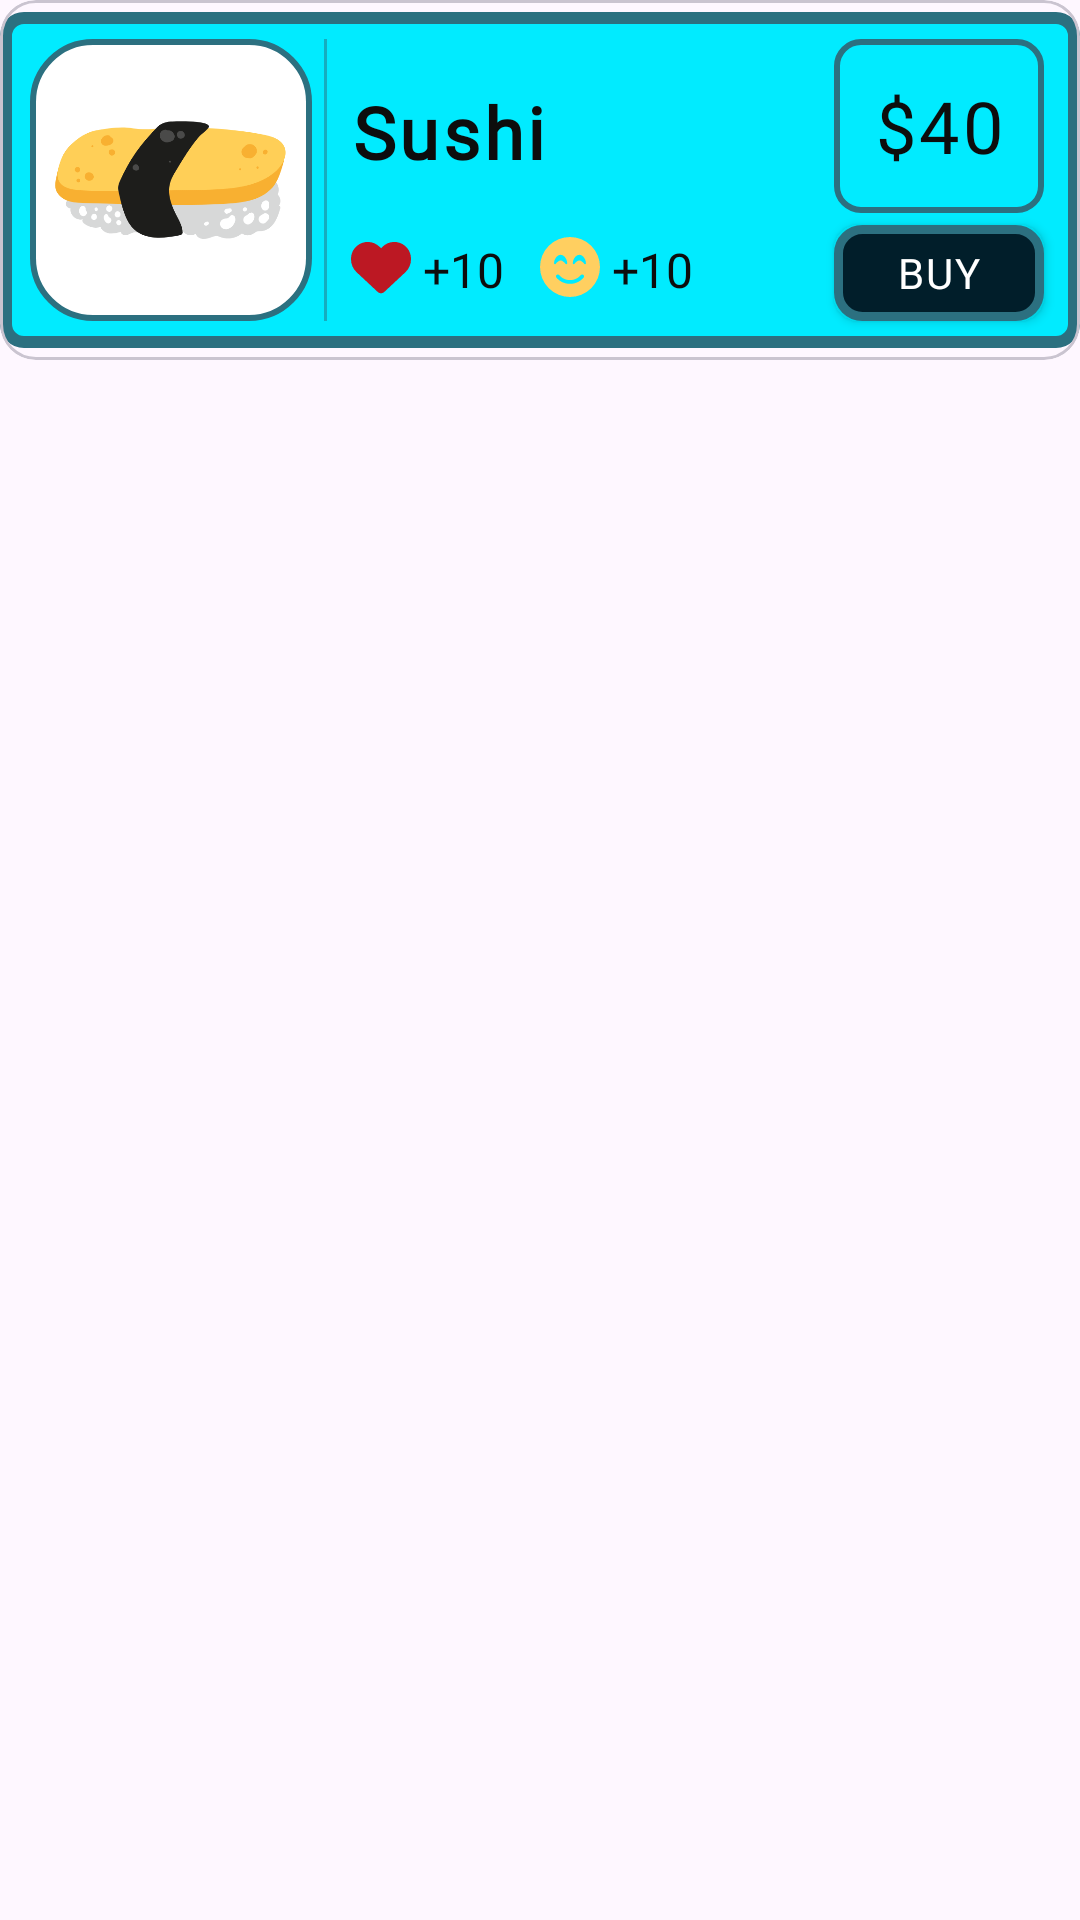

Icon click points for this 1080 × 1920 phone screenshot, format (x,y):
happy: (570,267)
heart: (381,268)
